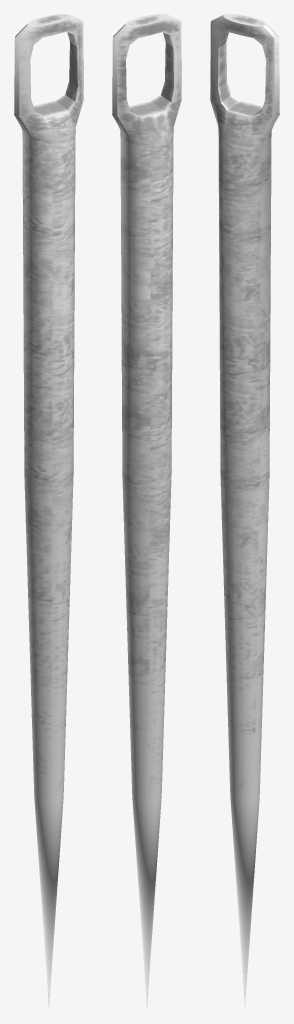
Rendered from Pick.obj.
The picture shows the model from 3 angles, left to right: view 1: azimuth 30°, elevation 25°; view 2: azimuth 210°, elevation 25°; view 3: azimuth 330°, elevation 25°; orthographic projection.
Visible parts, largest first — view 1: Pick1; view 2: Pick1; view 3: Pick1.
Part boxes in pixels (x1,y1,x2,y2): Pick1: (14, 14, 83, 1007); Pick1: (112, 14, 181, 1007); Pick1: (210, 14, 279, 1007).
Size of the model in its own units: 2.63 by 35.74 by 1.77.
Materials: 1 (1 with a texture image).
